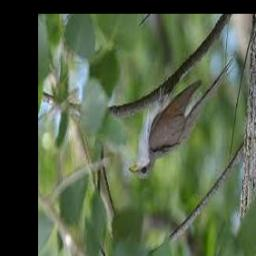Cuckoo: (128, 56, 236, 180)
